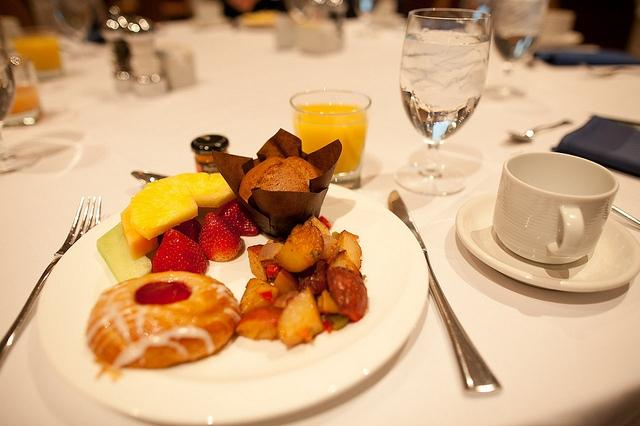pineapple: (130, 172, 238, 240), (121, 203, 159, 260)
strawberry: (151, 228, 208, 275), (198, 211, 242, 261), (218, 198, 259, 236), (157, 217, 202, 247)
